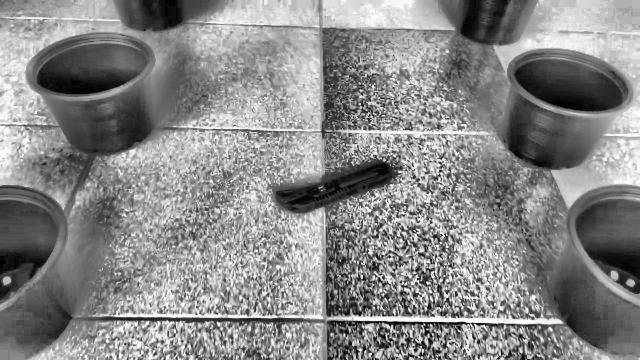pot: (500, 48, 635, 171), (26, 33, 156, 157), (554, 185, 640, 350), (0, 186, 76, 350)
